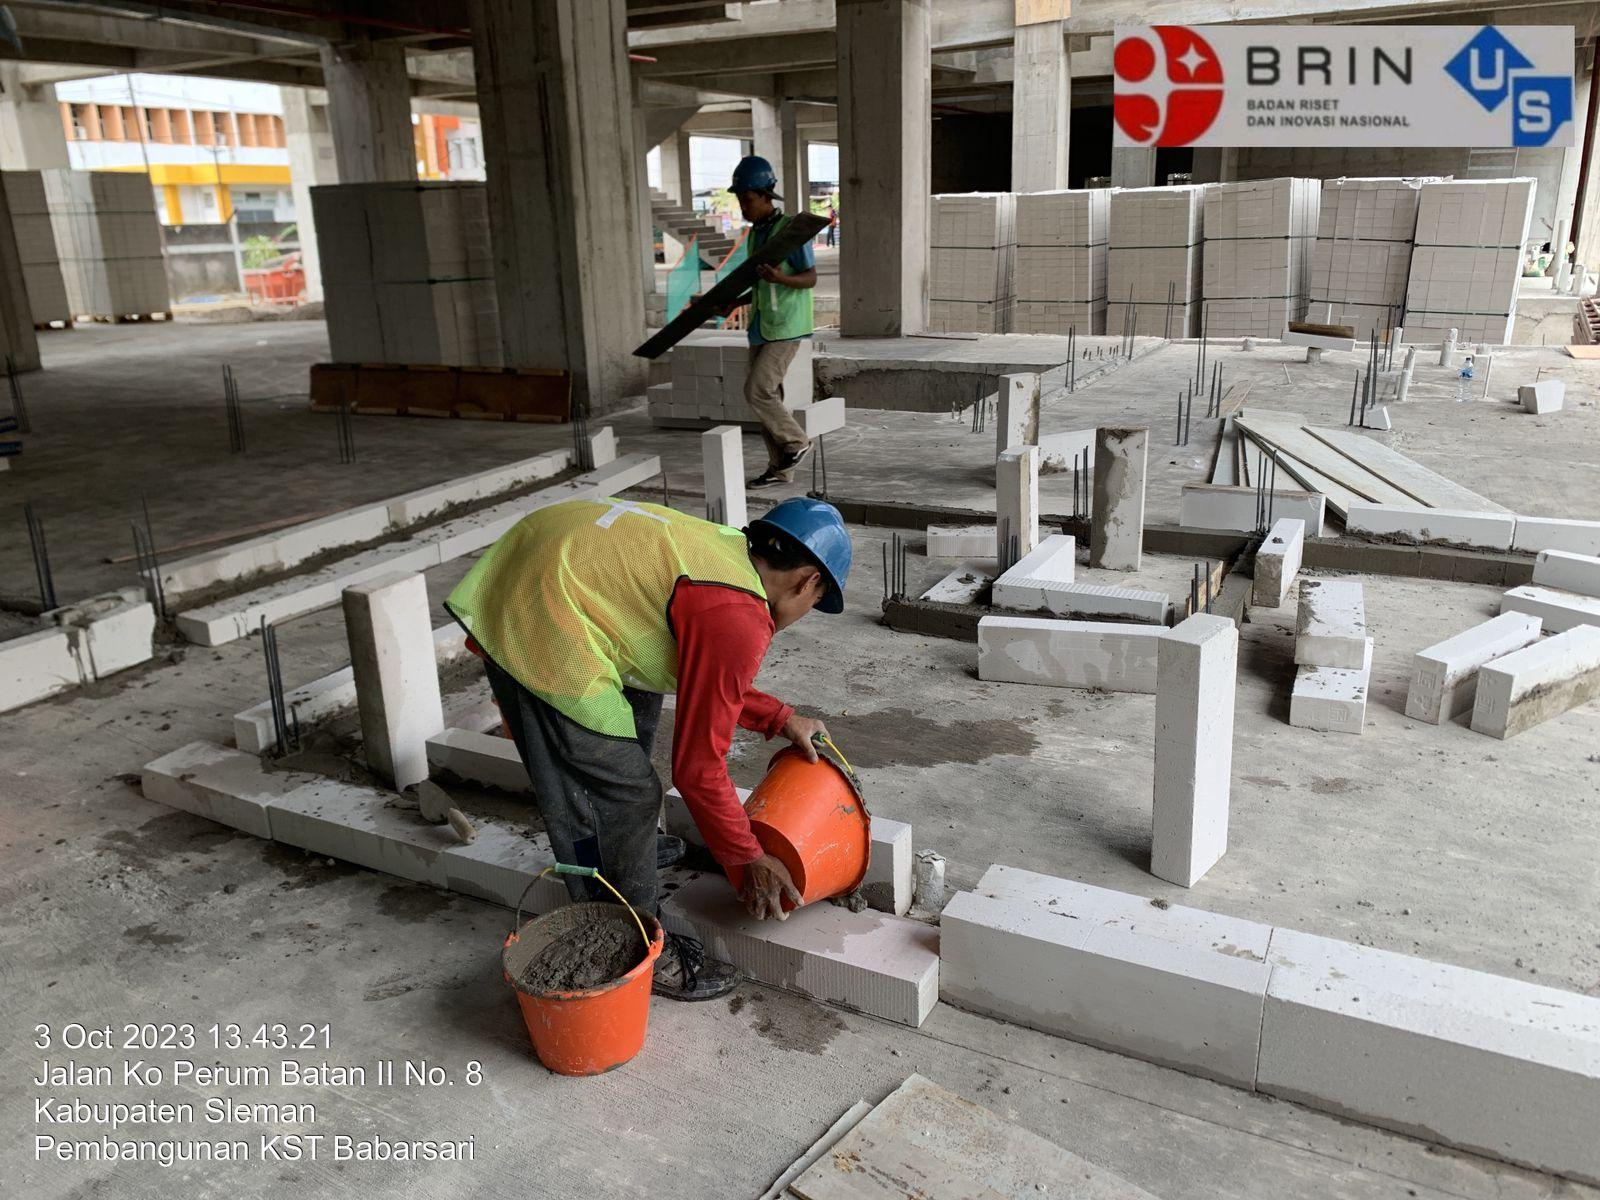hat: (741, 458, 884, 638), (700, 131, 801, 231)
vest: (459, 447, 779, 788), (682, 208, 864, 391)
